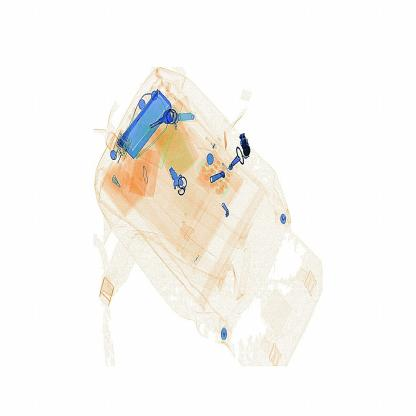pliers: (165, 104, 199, 131)
